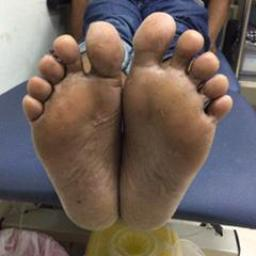Plantar View -Both Feet-: (18, 8, 236, 241)
